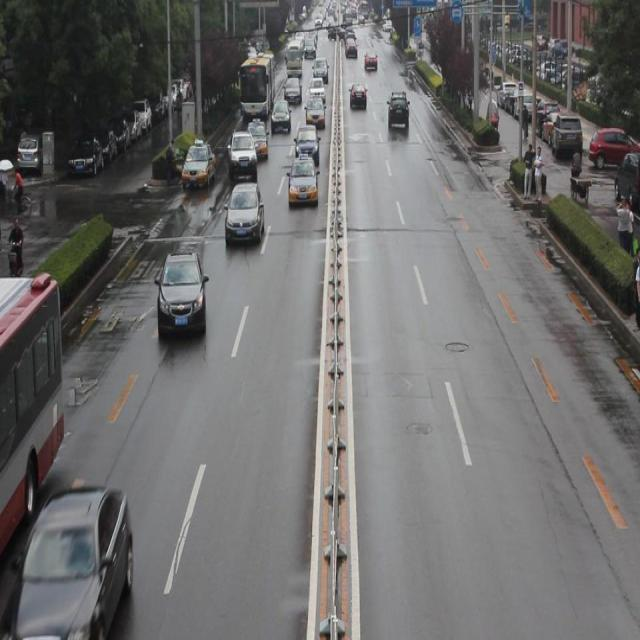car: (13, 487, 131, 634), (155, 249, 208, 342), (225, 181, 264, 243), (183, 134, 216, 184), (228, 129, 257, 183), (288, 156, 318, 208), (294, 125, 319, 167), (245, 119, 268, 160), (387, 91, 408, 131), (269, 99, 291, 133), (304, 98, 324, 130)
van: (1, 271, 65, 548), (239, 48, 274, 118)
